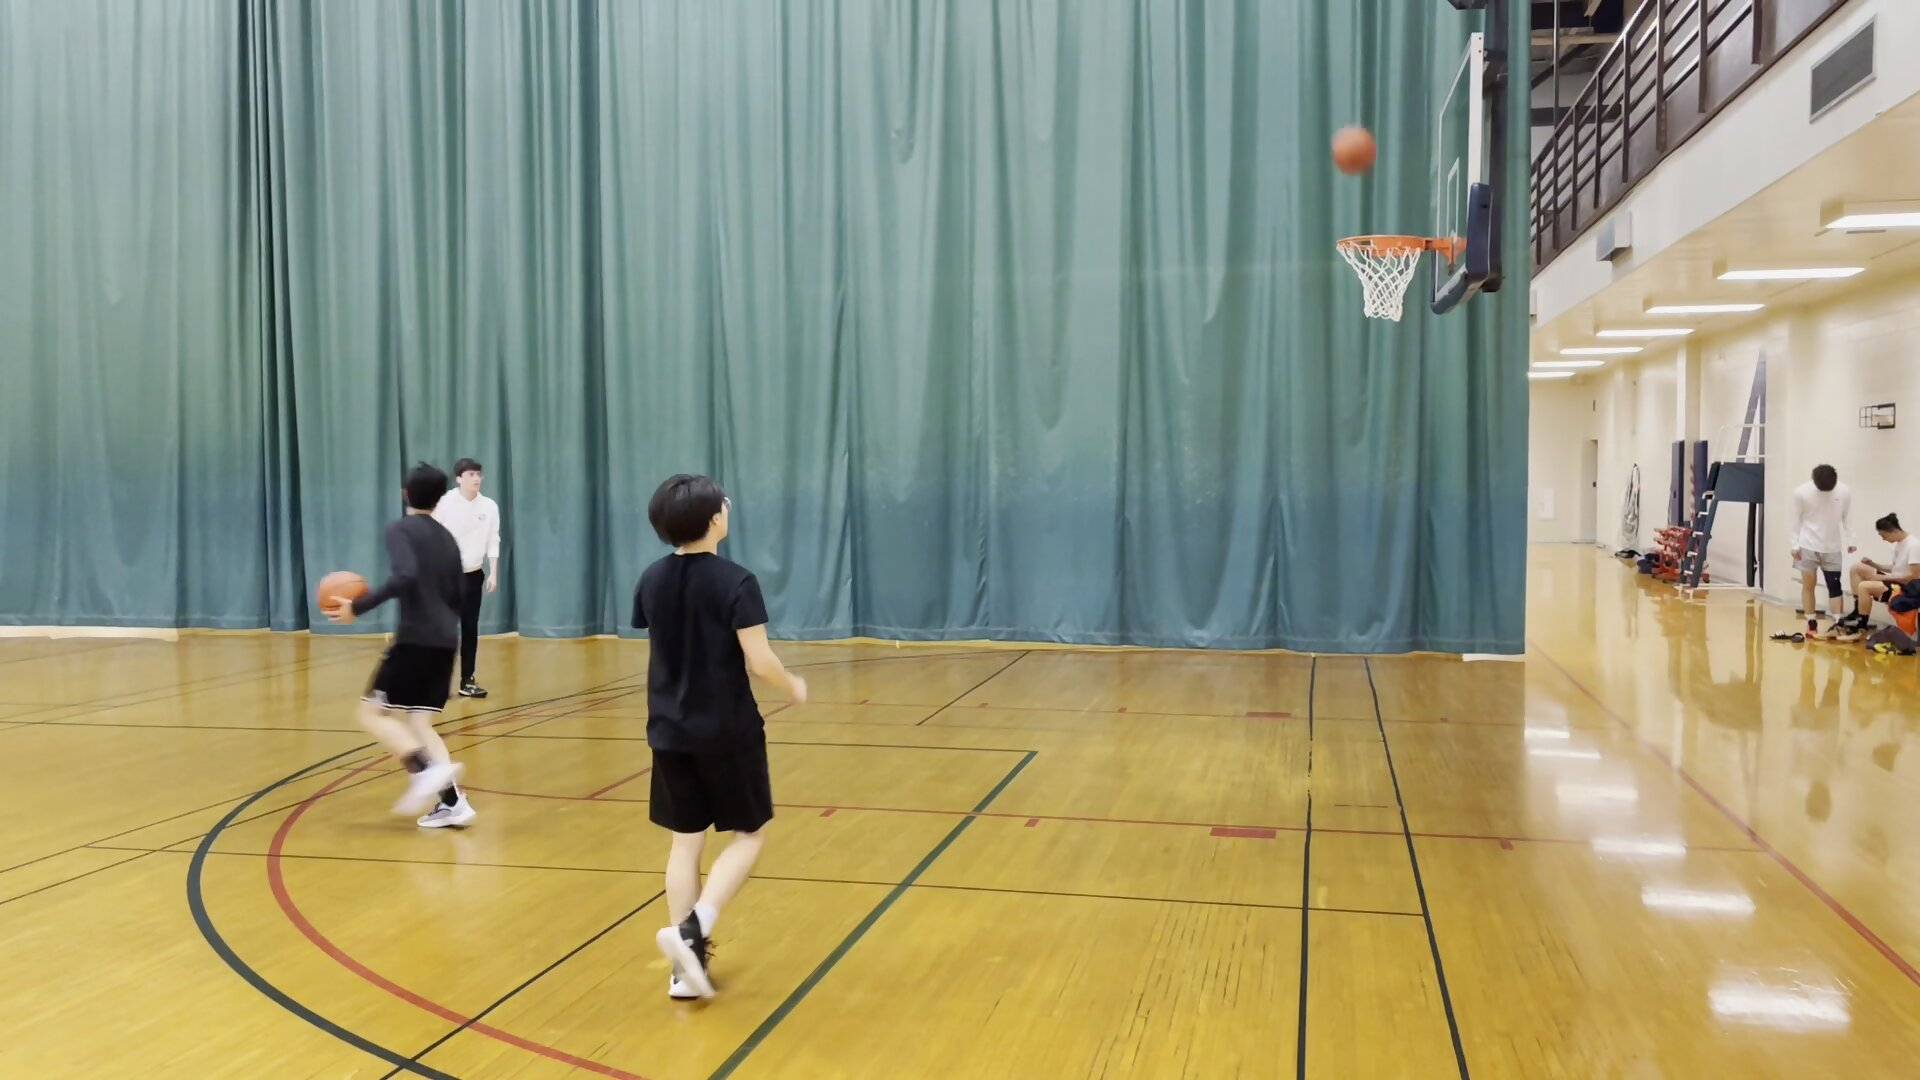ball: (315, 570, 370, 626), (1329, 126, 1378, 173)
net: (1353, 292, 1415, 325)
player: (625, 469, 808, 1008), (363, 462, 477, 834), (435, 454, 501, 702), (1787, 465, 1853, 639), (1850, 514, 1920, 630)
rim: (1331, 231, 1434, 262)
